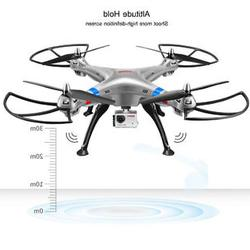drone: (2, 42, 250, 158)
